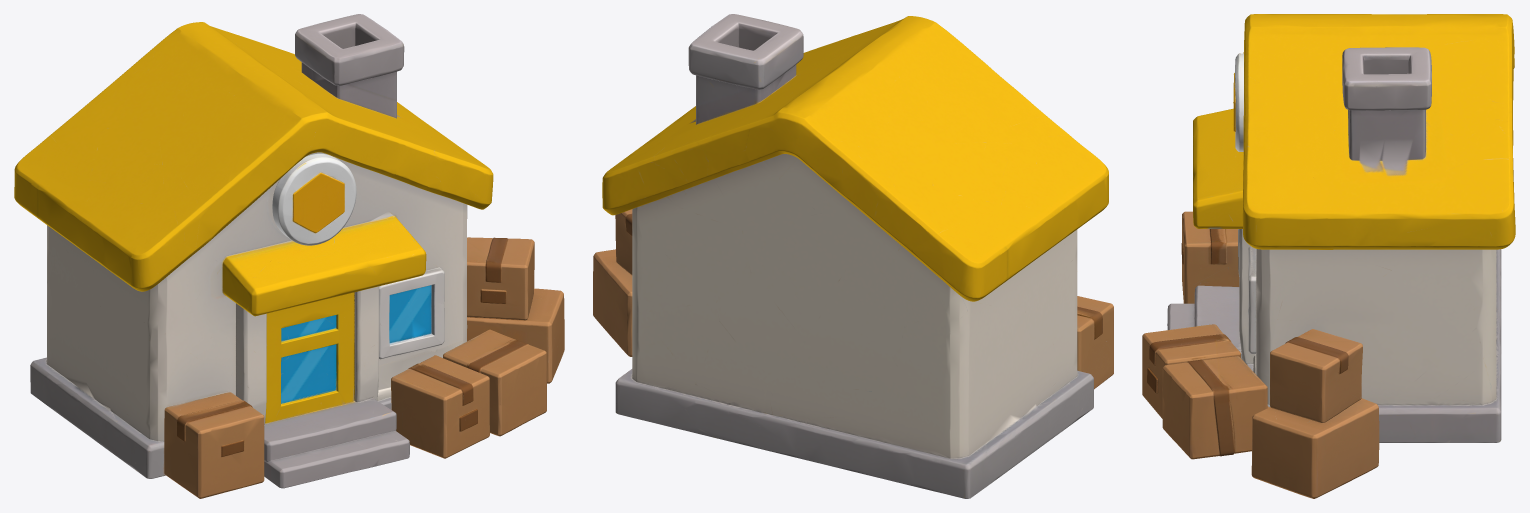
The model's file is post_office.glb.
3 renders of one model, left to right at view 1: azimuth 30°, elevation 25°; view 2: azimuth 150°, elevation 25°; view 3: azimuth 270°, elevation 25°, orthographic. The views are drawn at different scales.
Bounding box in the file's own units: 1.9 × 1.33 × 1.3.
Materials: 1 (1 with a texture image).
